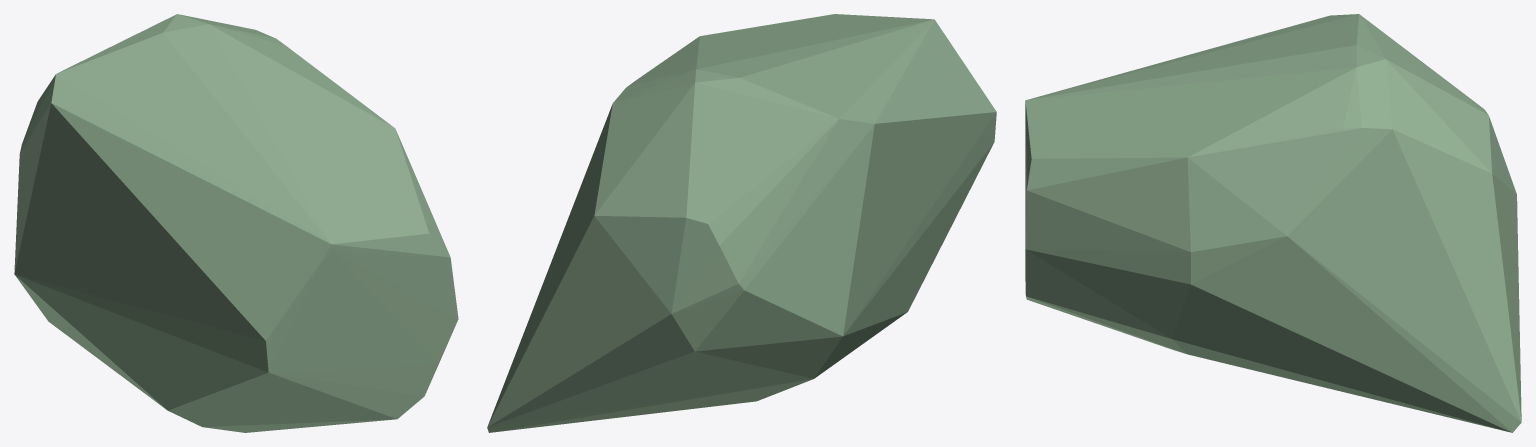
The model's file is paint_container_bottle_red_a04.glb.
The picture shows the model from 3 angles, left to right: view 1: azimuth 30°, elevation 25°; view 2: azimuth 150°, elevation 25°; view 3: azimuth 270°, elevation 25°; orthographic projection. The views are drawn at different scales.
Visible parts, largest first — view 1: geometry_0; view 2: geometry_0; view 3: geometry_0.
Part boxes in pixels (x1,y1,x2,y2): geometry_0: (14,14,458,432); geometry_0: (487,14,996,432); geometry_0: (1025,14,1521,432).
Bounding box in the file's own units: 0.3004 × 0.3307 × 0.4771.
